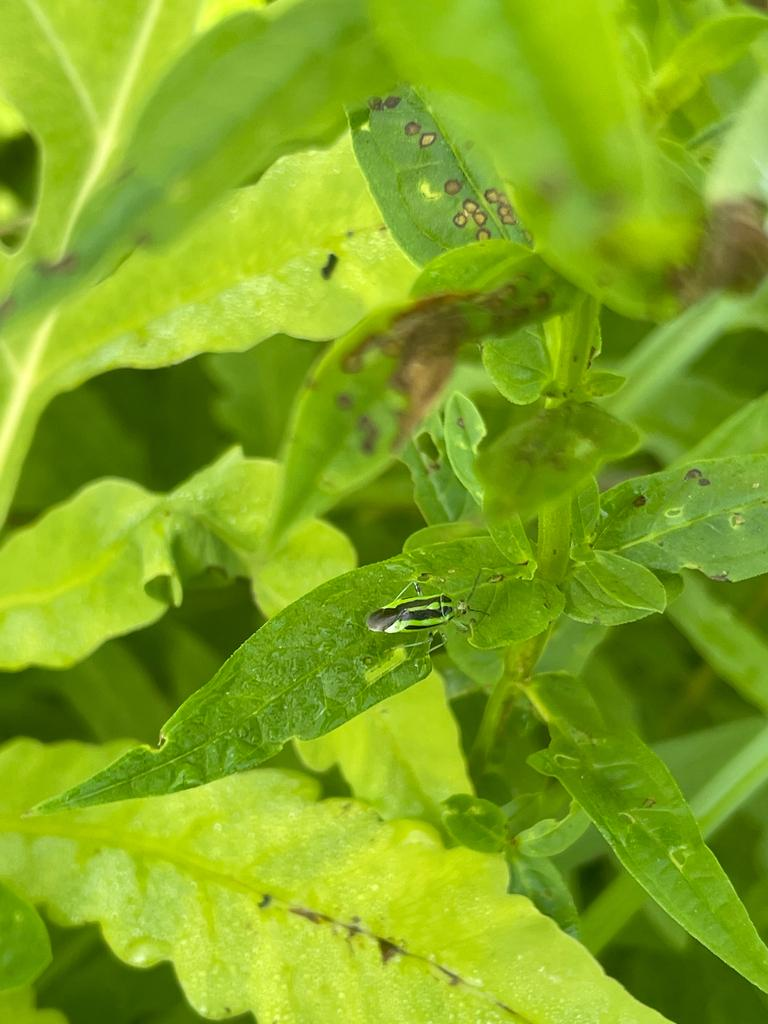plant_bugs: (337, 543, 524, 667)
